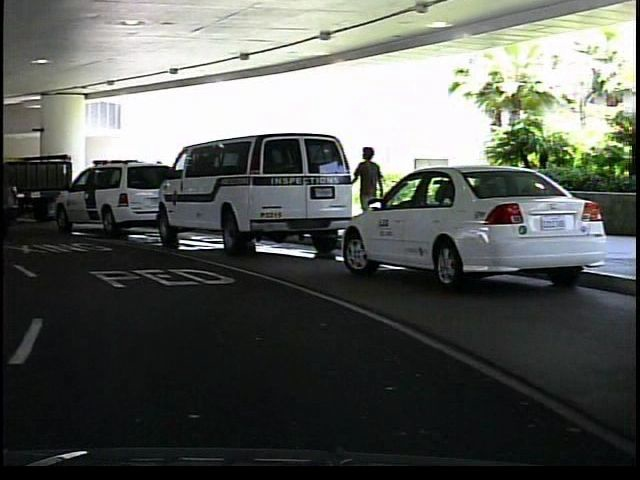person: (347, 139, 384, 245)
